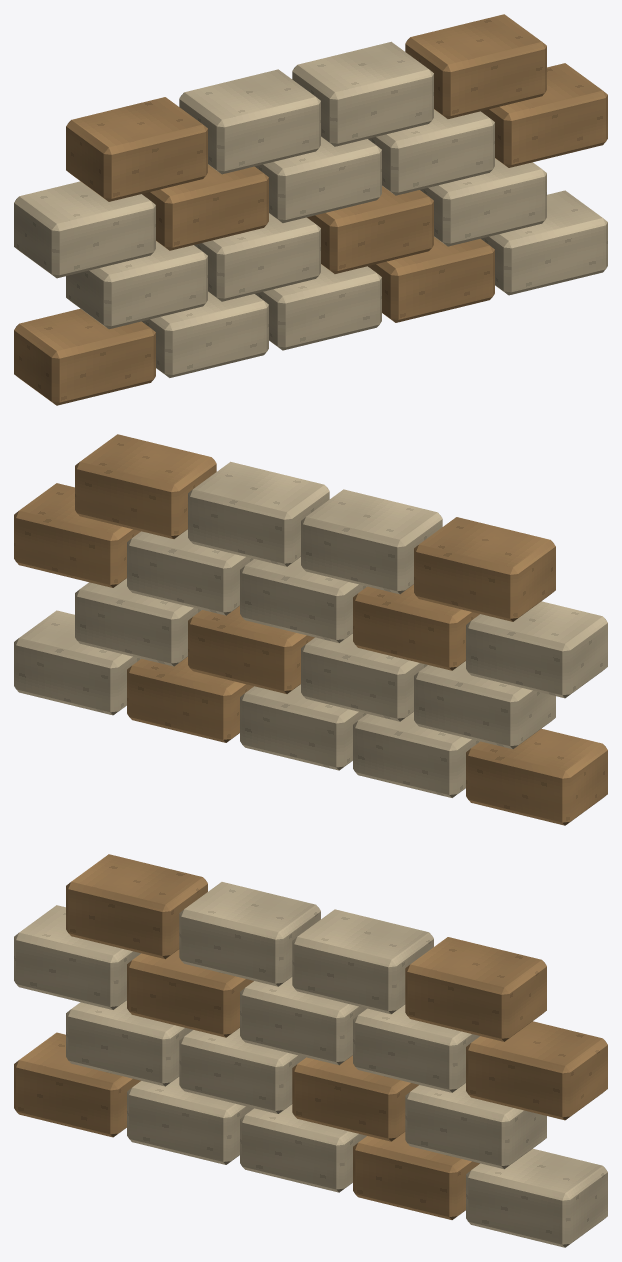
Rendered from StoneWall_Straight.glb.
The picture shows the model from 3 angles, top to bottom: view 1: azimuth 30°, elevation 25°; view 2: azimuth 150°, elevation 25°; view 3: azimuth 330°, elevation 25°; orthographic projection.
Parts seen in each view (by area): view 1: WallBlock_3_0, WallBlock_0_0, WallBlock_2_0, WallBlock_3_2, WallBlock_3_1, WallBlock_3_3, WallBlock_1_0, WallBlock_0_4, WallBlock_2_4, WallBlock_0_3, WallBlock_0_1, WallBlock_2_1 (+6 smaller); view 2: WallBlock_3_0, WallBlock_0_0, WallBlock_2_0, WallBlock_3_2, WallBlock_3_1, WallBlock_3_3, WallBlock_1_0, WallBlock_0_4, WallBlock_2_4, WallBlock_0_3, WallBlock_0_1, WallBlock_2_1 (+6 smaller); view 3: WallBlock_3_3, WallBlock_0_4, WallBlock_2_4, WallBlock_3_0, WallBlock_3_2, WallBlock_3_1, WallBlock_1_3, WallBlock_2_0, WallBlock_0_0, WallBlock_1_1, WallBlock_1_2, WallBlock_1_0 (+6 smaller).
Part boxes in pixels (bbox=[...]): WallBlock_3_0: bbox=[66, 97, 207, 201]; WallBlock_0_0: bbox=[14, 308, 155, 405]; WallBlock_2_0: bbox=[14, 181, 155, 278]; WallBlock_3_2: bbox=[292, 41, 433, 146]; WallBlock_3_1: bbox=[179, 69, 320, 174]; WallBlock_3_3: bbox=[405, 14, 546, 118]; WallBlock_1_0: bbox=[66, 241, 207, 329]; WallBlock_0_4: bbox=[481, 190, 607, 295]; WallBlock_2_4: bbox=[481, 63, 607, 167]; WallBlock_0_3: bbox=[368, 237, 494, 322]; WallBlock_0_1: bbox=[142, 292, 268, 377]; WallBlock_2_1: bbox=[142, 164, 268, 250]; WallBlock_3_0: bbox=[414, 517, 555, 621]; WallBlock_0_0: bbox=[466, 728, 607, 825]; WallBlock_2_0: bbox=[466, 601, 607, 698]; WallBlock_3_2: bbox=[188, 461, 329, 566]; WallBlock_3_1: bbox=[301, 489, 442, 594]; WallBlock_3_3: bbox=[75, 434, 216, 538]; WallBlock_1_0: bbox=[414, 661, 555, 749]; WallBlock_0_4: bbox=[14, 610, 140, 715]; WallBlock_2_4: bbox=[14, 483, 140, 587]; WallBlock_0_3: bbox=[127, 657, 253, 742]; WallBlock_0_1: bbox=[353, 712, 479, 797]; WallBlock_2_1: bbox=[353, 584, 479, 670]; WallBlock_3_3: bbox=[405, 937, 546, 1041]; WallBlock_0_4: bbox=[466, 1148, 607, 1247]; WallBlock_2_4: bbox=[466, 1021, 607, 1120]; WallBlock_3_0: bbox=[66, 854, 207, 959]; WallBlock_3_2: bbox=[292, 909, 433, 1014]; WallBlock_3_1: bbox=[179, 882, 320, 986]; WallBlock_1_3: bbox=[405, 1083, 546, 1169]; WallBlock_2_0: bbox=[14, 905, 140, 1009]; WallBlock_0_0: bbox=[14, 1032, 140, 1137]; WallBlock_1_1: bbox=[179, 1028, 305, 1113]; WallBlock_1_2: bbox=[292, 1055, 418, 1141]; WallBlock_1_0: bbox=[66, 1000, 193, 1086].
Bounding box in the file's own units: 3.84 × 1.62 × 0.52.
Materials: 2 (2 with a texture image).
